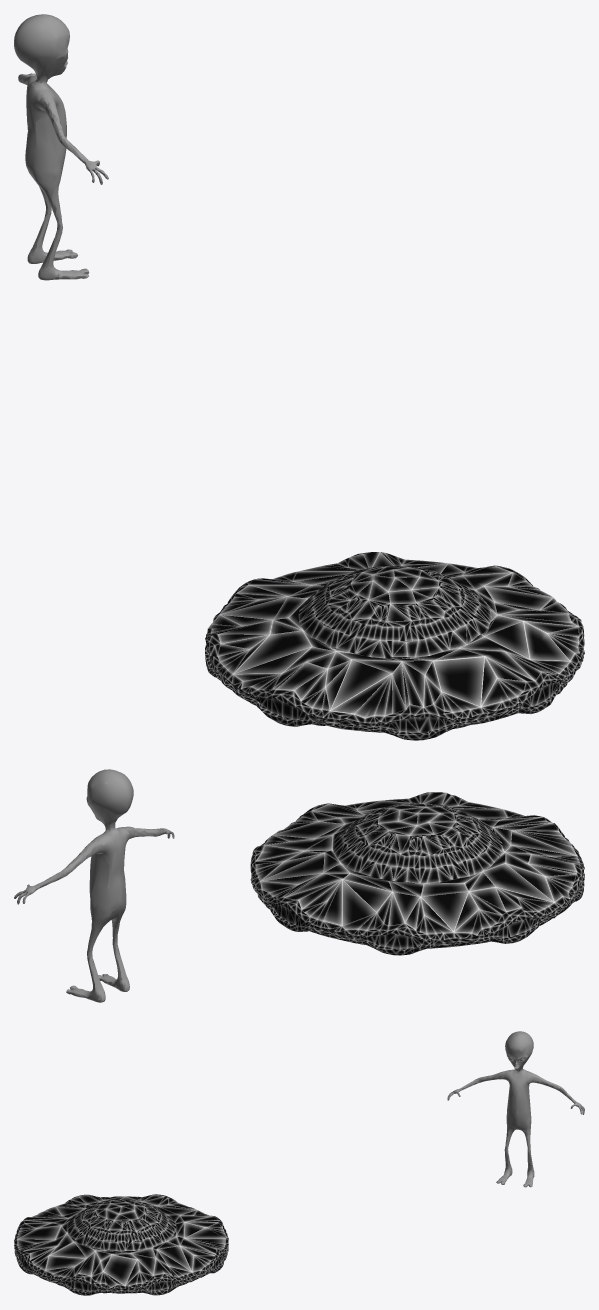
The model's file is frame_017.obj.
3 renders of one model, top to bottom at view 1: azimuth 30°, elevation 25°; view 2: azimuth 150°, elevation 25°; view 3: azimuth 270°, elevation 25°, orthographic. The views are drawn at different scales.
Parts seen in each view (by area): view 1: 13884_UFO_Saucer_v1_l2, 10469_GrayAlien_v01; view 2: 13884_UFO_Saucer_v1_l2, 10469_GrayAlien_v01; view 3: 13884_UFO_Saucer_v1_l2, 10469_GrayAlien_v01.
Boxes of the visible parts, x1,y1,x2,y2 form: 13884_UFO_Saucer_v1_l2: (205, 552, 584, 740); 10469_GrayAlien_v01: (14, 14, 108, 280); 13884_UFO_Saucer_v1_l2: (250, 792, 584, 955); 10469_GrayAlien_v01: (14, 769, 174, 1002); 13884_UFO_Saucer_v1_l2: (14, 1194, 228, 1295); 10469_GrayAlien_v01: (447, 1031, 584, 1187).
Size of the model in its own units: 12.69 by 16.15 by 33.73.
